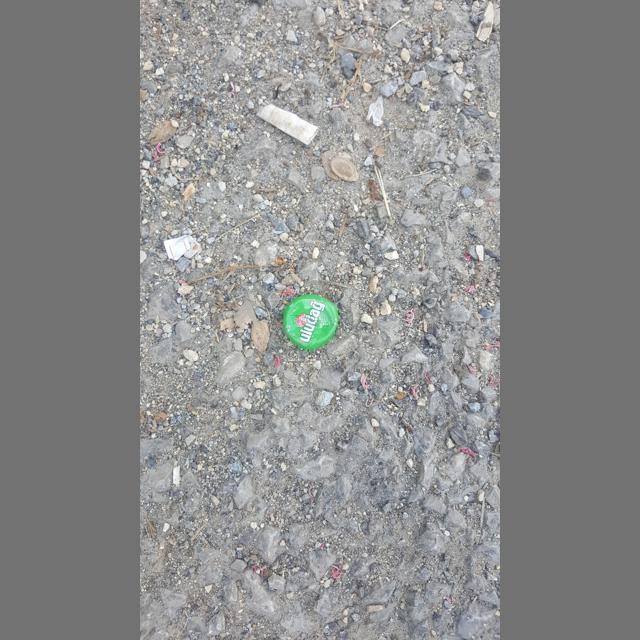litter: (282, 294, 339, 350), (259, 104, 319, 145), (164, 236, 190, 261), (401, 308, 415, 327), (331, 564, 345, 579), (458, 447, 478, 457), (360, 374, 370, 389), (283, 285, 296, 296), (424, 371, 434, 384), (411, 385, 418, 400), (152, 150, 160, 163), (329, 102, 343, 109), (157, 142, 165, 153), (465, 286, 474, 295), (252, 565, 261, 574), (468, 366, 478, 374), (464, 252, 471, 263), (485, 345, 500, 350), (491, 377, 499, 386), (365, 398, 373, 406), (275, 356, 280, 367), (261, 567, 266, 577), (446, 597, 451, 604), (485, 199, 493, 202), (320, 543, 323, 548), (180, 281, 185, 284), (309, 493, 311, 499)
